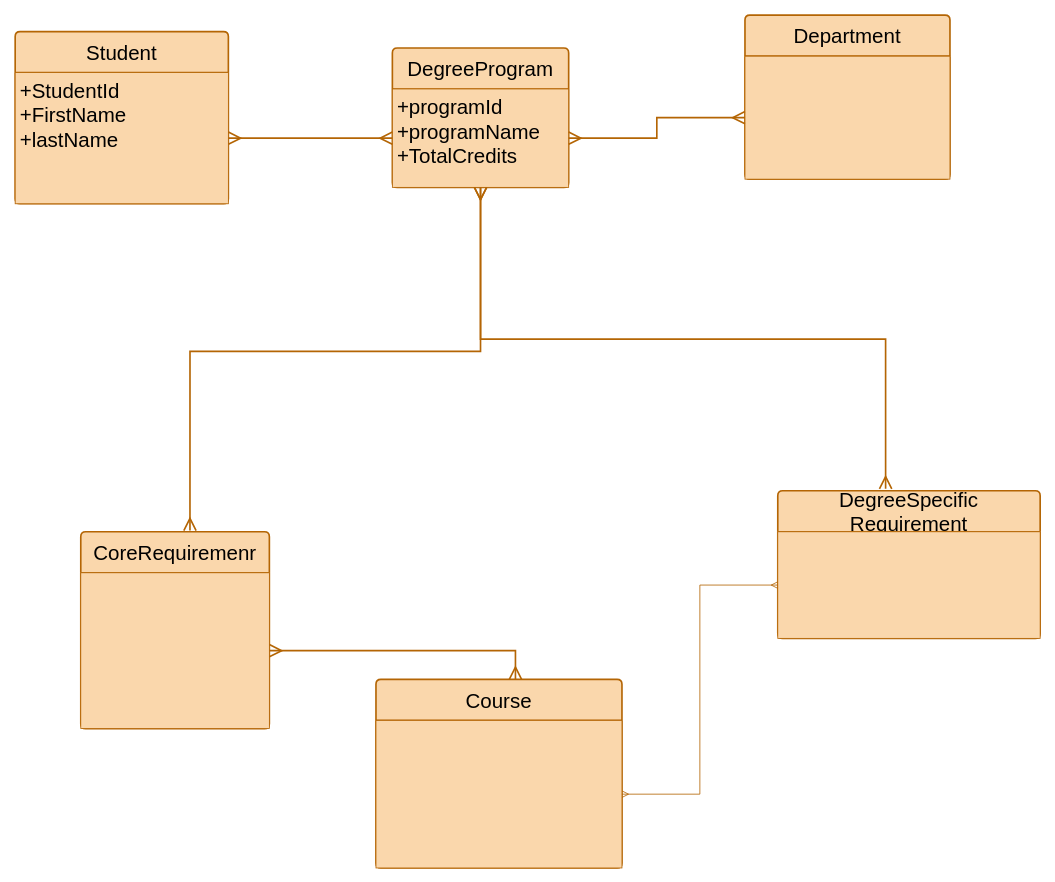
Some shapes in this 1055 by 882 pixel diagram are drawn without their labels. The centre of each missing label's shape, as x and y in pixels:
"+CourseId +CourseName +Credit" goes at point (498, 794).
"+DegreeSpecificReqId +DegreeSpecifcReqName + CreditNeeded" goes at point (908, 584).
"+DepartmentID +DepartmentName" goes at point (847, 117).
"+RequirementId +RequirementName + CreditNeeded" goes at point (174, 650).
